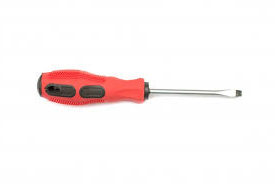screwdriver: (34, 62, 250, 113)
